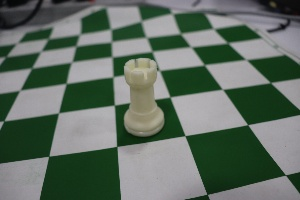white_rook: (111, 41, 171, 145)
